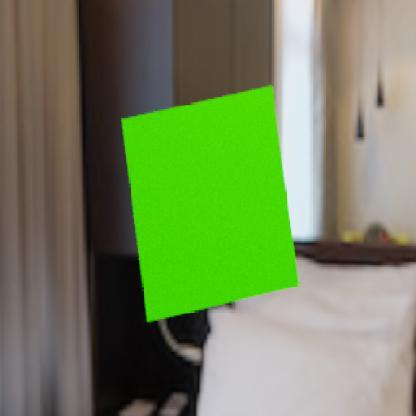cube: (121, 85, 299, 321)
